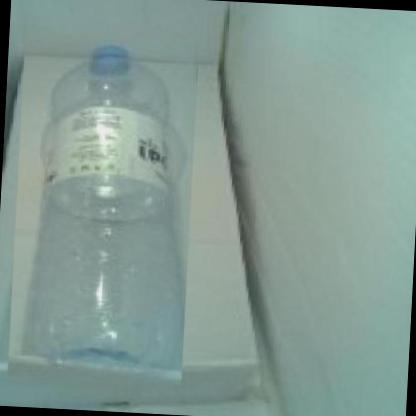plastic_bottles: (7, 32, 199, 386)
